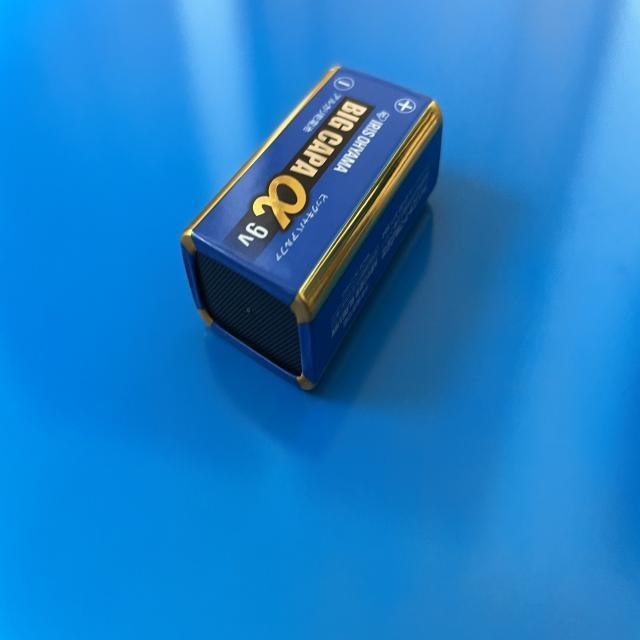9V: (180, 67, 447, 392)
